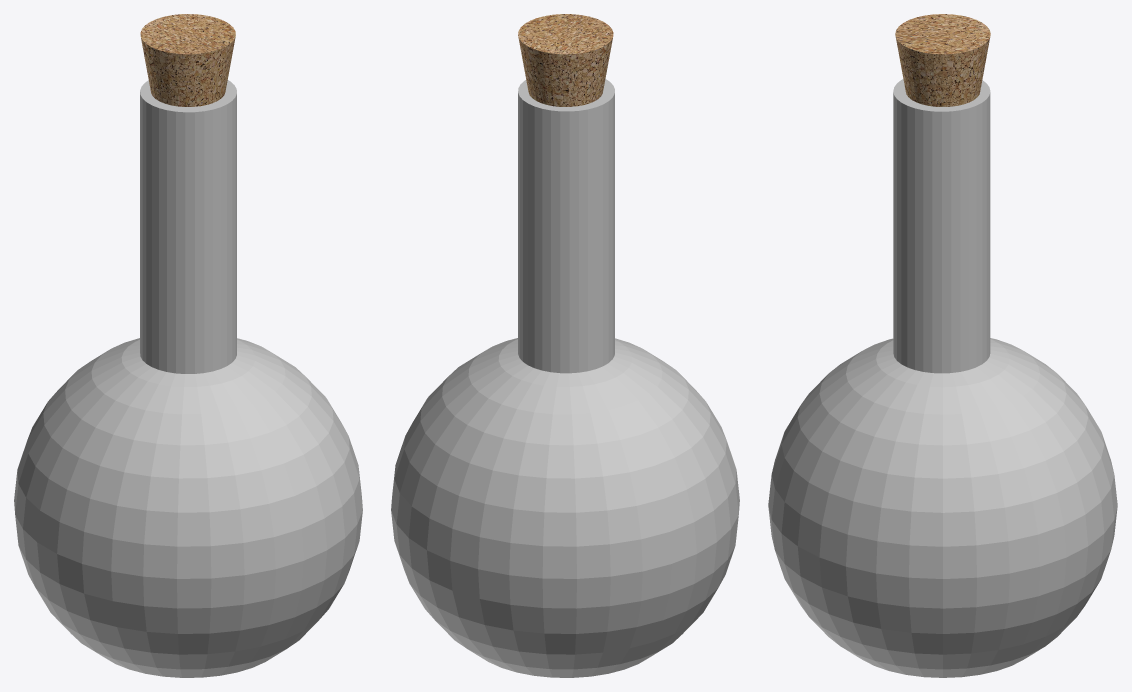
File: Pocima.fbx
The picture shows the model from 3 angles, left to right: view 1: azimuth 30°, elevation 25°; view 2: azimuth 150°, elevation 25°; view 3: azimuth 270°, elevation 25°; orthographic projection.
Parts seen in each view (by area): view 1: Sphere, Cylinder.003, Cylinder.004, Cylinder.002; view 2: Sphere, Cylinder.003, Cylinder.004, Cylinder.002; view 3: Sphere, Cylinder.003, Cylinder.004, Cylinder.002.
Part boxes in pixels (box(x1,y1,x2,y2)): Sphere: box(14, 338, 362, 677); Cylinder.003: box(140, 196, 236, 373); Cylinder.004: box(140, 80, 236, 217); Cylinder.002: box(140, 14, 235, 106); Sphere: box(391, 338, 739, 677); Cylinder.003: box(518, 197, 614, 373); Cylinder.004: box(518, 79, 614, 215); Cylinder.002: box(518, 14, 613, 106); Sphere: box(768, 338, 1117, 677); Cylinder.003: box(893, 197, 990, 373); Cylinder.004: box(893, 79, 990, 216); Cylinder.002: box(895, 14, 990, 106).
Bounding box in the file's own units: 200 × 381 × 200.
